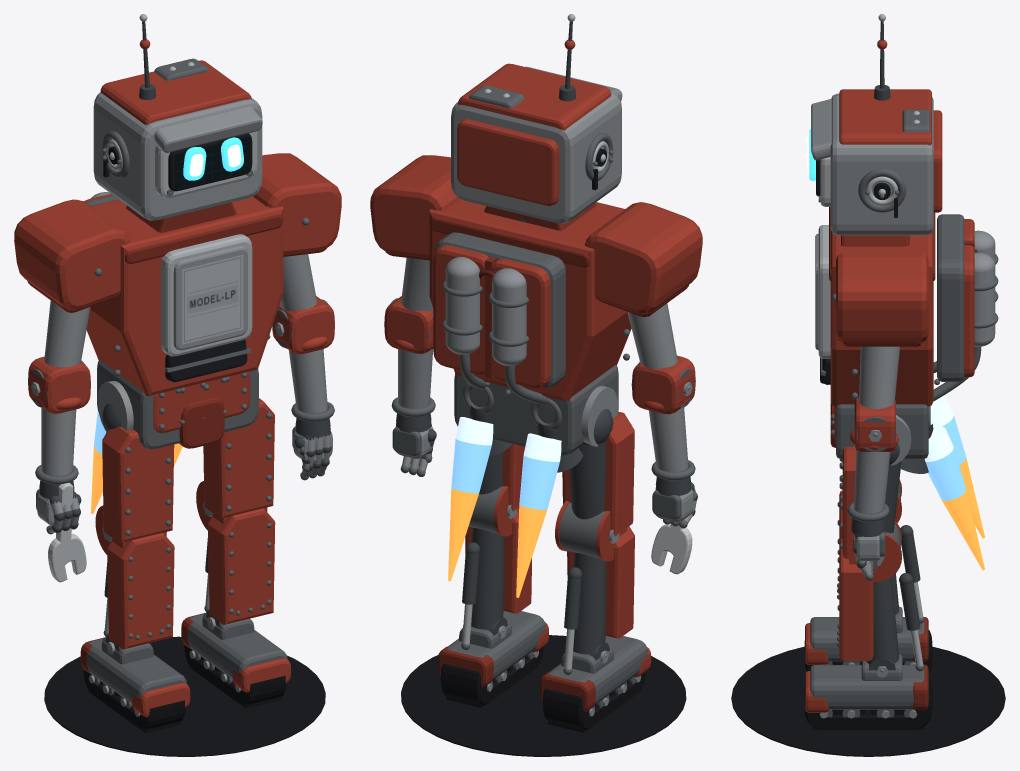
The picture shows the model from 3 angles, left to right: view 1: azimuth 30°, elevation 25°; view 2: azimuth 150°, elevation 25°; view 3: azimuth 270°, elevation 25°; orthographic projection. The views are drawn at different scales.
Visible parts, largest first — view 1: Torso, Right_Arm, Right_Leg, Base, Head, Left_Leg, Left_Arm, Pelvis, Right_Foot, Left_Foot, ChestPlate, Face (+9 smaller); view 2: Head, Jetpack, Right_Arm, Right_Leg, Base, Torso, Left_Arm, Exhaust, Left_Leg, Right_Foot, Left_Foot, Pelvis (+4 smaller); view 3: Head, Left_Arm, Base, Left_Leg, Jetpack, Left_Foot, Torso, Exhaust, Right_Foot, Pelvis, ChestPlate, Face (+3 smaller).
Part boxes in pixels (x1,y1,x2,y2): Torso: (86, 196, 283, 396); Right_Arm: (14, 199, 130, 495); Right_Leg: (95, 403, 174, 649); Base: (44, 636, 325, 756); Head: (93, 58, 262, 220); Left_Leg: (196, 398, 275, 624); Left_Arm: (253, 153, 341, 432); Pelvis: (97, 360, 258, 449); Right_Foot: (80, 634, 190, 733); Left_Foot: (181, 610, 290, 708); ChestPlate: (161, 234, 252, 356); Face: (154, 106, 262, 198); Head: (451, 63, 621, 223); Jetpack: (433, 232, 565, 404); Right_Arm: (584, 202, 702, 491); Right_Leg: (555, 409, 634, 675); Base: (401, 635, 686, 756); Torso: (429, 199, 631, 401); Left_Arm: (370, 155, 459, 427); Exhaust: (448, 383, 583, 597); Left_Leg: (461, 444, 531, 650); Right_Foot: (540, 636, 651, 732); Left_Foot: (438, 611, 548, 707); Pelvis: (454, 365, 618, 455); Head: (830, 89, 942, 235); Left_Arm: (832, 253, 928, 532); Base: (731, 646, 1005, 756); Left_Leg: (837, 443, 924, 671); Jetpack: (933, 214, 998, 401); Left_Foot: (804, 654, 932, 729); Torso: (820, 207, 935, 406); Exhaust: (900, 395, 984, 570); Right_Foot: (804, 606, 932, 673); Pelvis: (825, 379, 939, 465); ChestPlate: (815, 225, 830, 358); Face: (811, 99, 831, 206).
Bounding box in the file's own units: 0.97 × 2.15 × 0.8.
Materials: 17 (2 with a texture image).
